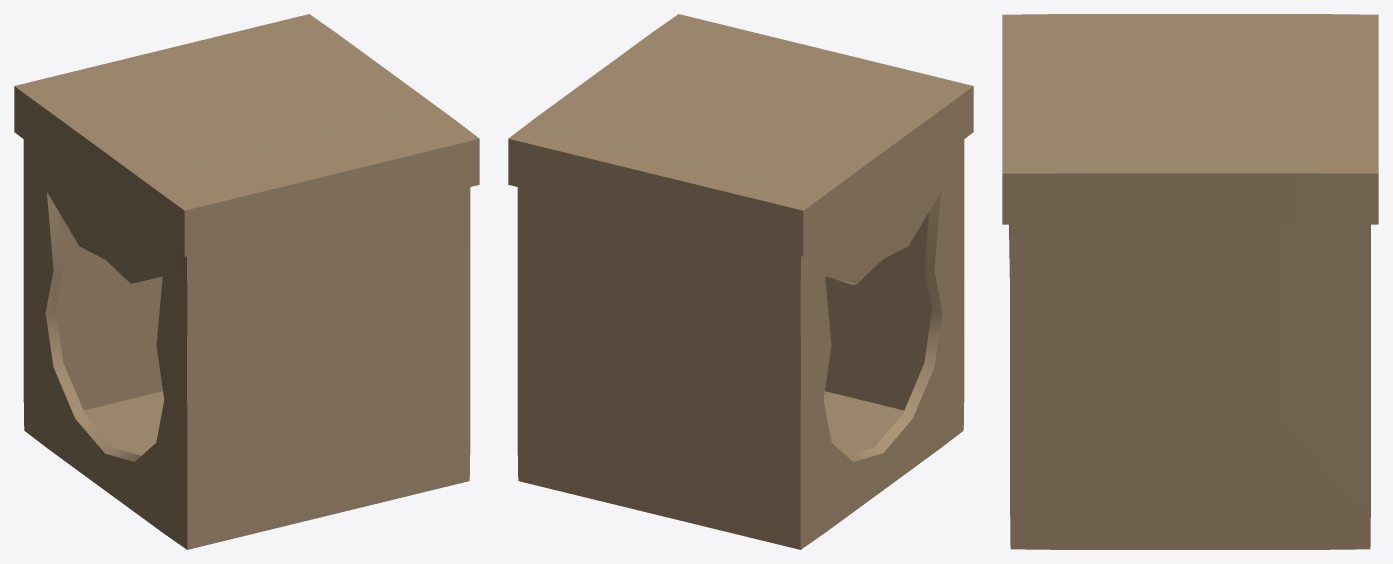
3 views of the same model, side by side, from view 1: azimuth 30°, elevation 25°; view 2: azimuth 150°, elevation 25°; view 3: azimuth 270°, elevation 25° (orthographic). The views are drawn at different scales.
Visible parts, largest first — view 1: pCube1; view 2: pCube1; view 3: pCube1.
Boxes of the visible parts, x1=… form: pCube1: x1=14, y1=14, x2=479, y2=549; pCube1: x1=508, y1=14, x2=973, y2=549; pCube1: x1=1002, y1=14, x2=1378, y2=549.
Bounding box in the file's own units: 2.89 × 3.21 × 2.88.
